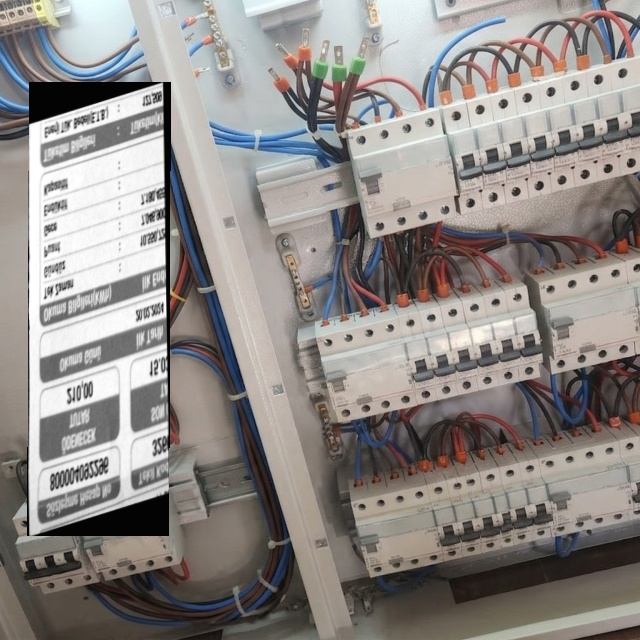electricity-bill: (26, 81, 170, 535)
